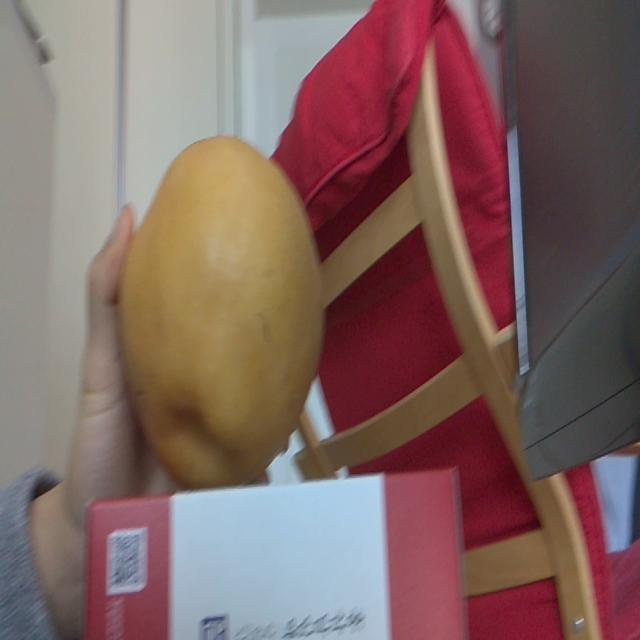pear: (114, 135, 330, 488)
